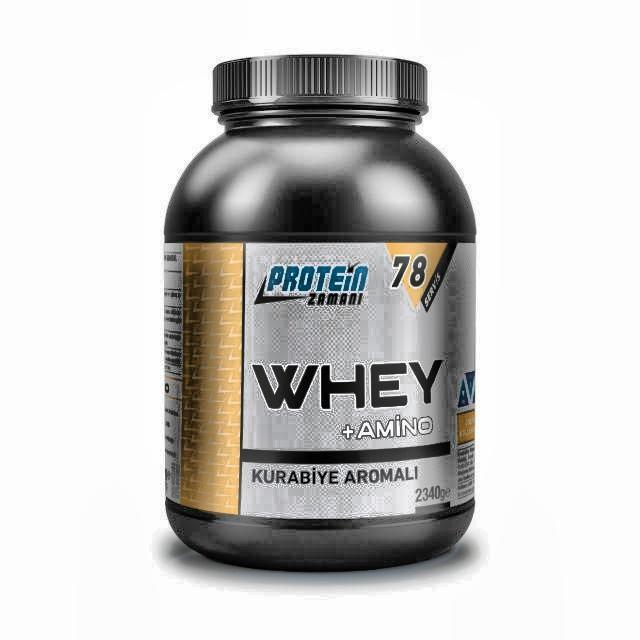plastic: (160, 53, 477, 577)
